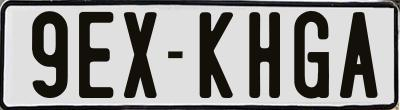9: (32, 8, 73, 96)
A: (340, 10, 381, 97)
E: (78, 12, 114, 99)
G: (293, 11, 328, 100)
H: (247, 12, 279, 104)
K: (198, 11, 232, 100)
X: (121, 9, 156, 100)
